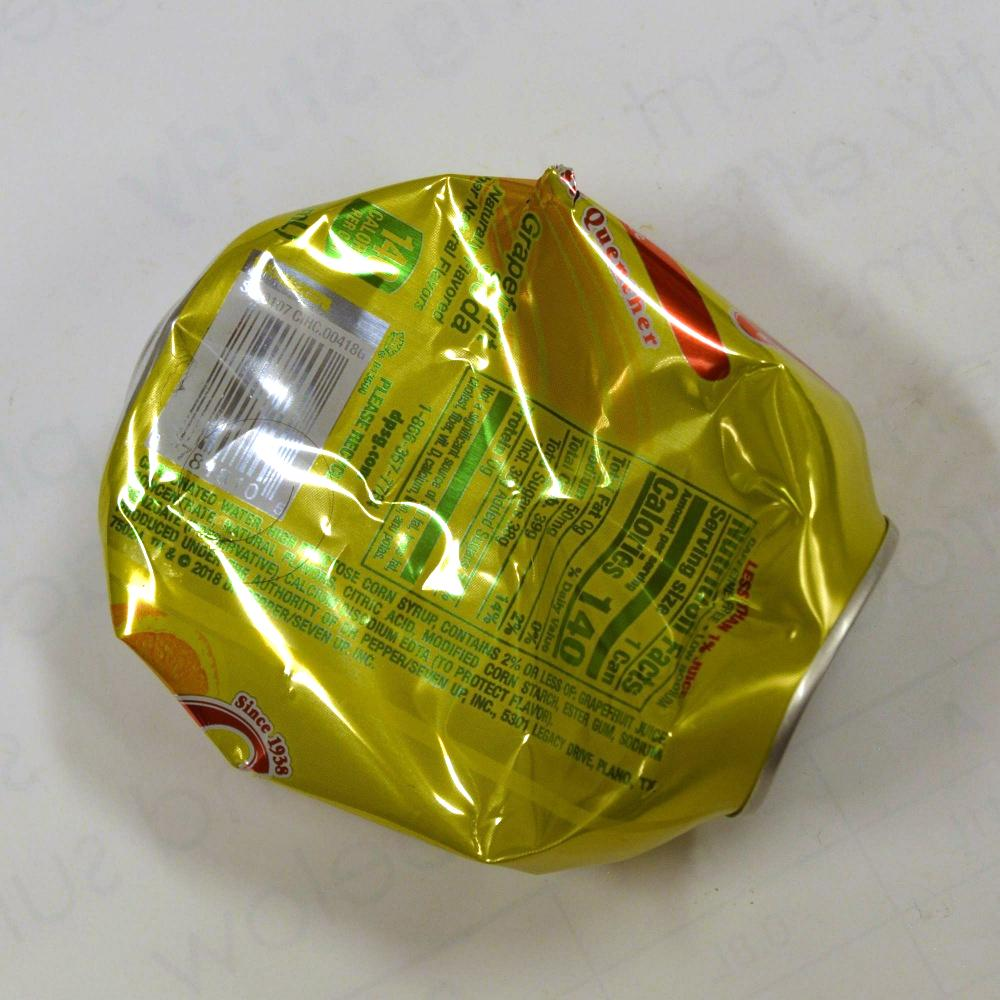Metal: (40, 103, 875, 903)
